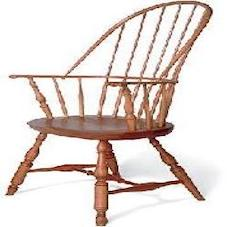chair: (3, 3, 211, 222)
